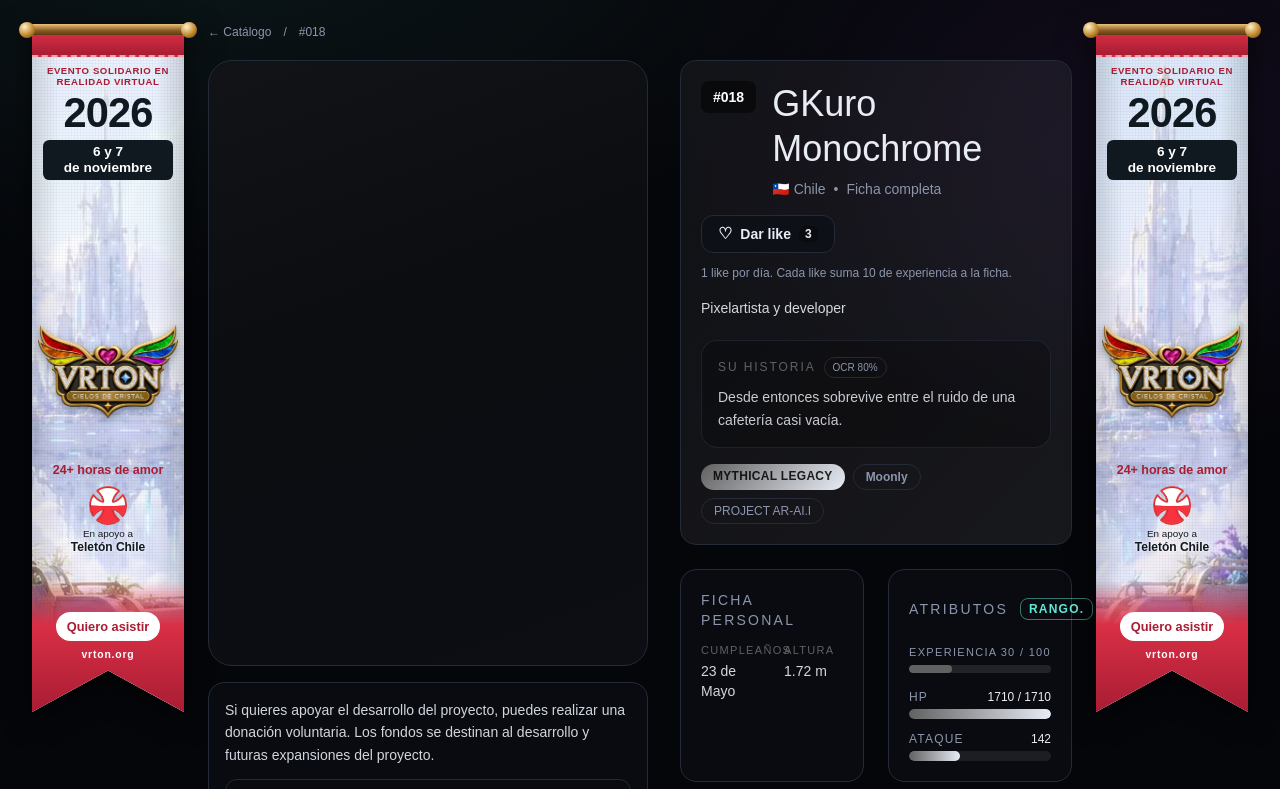
Test: DetailPage › la ficha trae el like y el botón de PayPal, y los likes mueven nivel y experiencia
The image size is (1280, 789).
Expected: the text with test id "like-count" reads "3", [805,227,812,241]
Expected: the text "NIVEL 1" is shown, [1101,590,1154,628]
Click the button with test id "like-button".
click(768, 234)  # box [701,215,835,253]
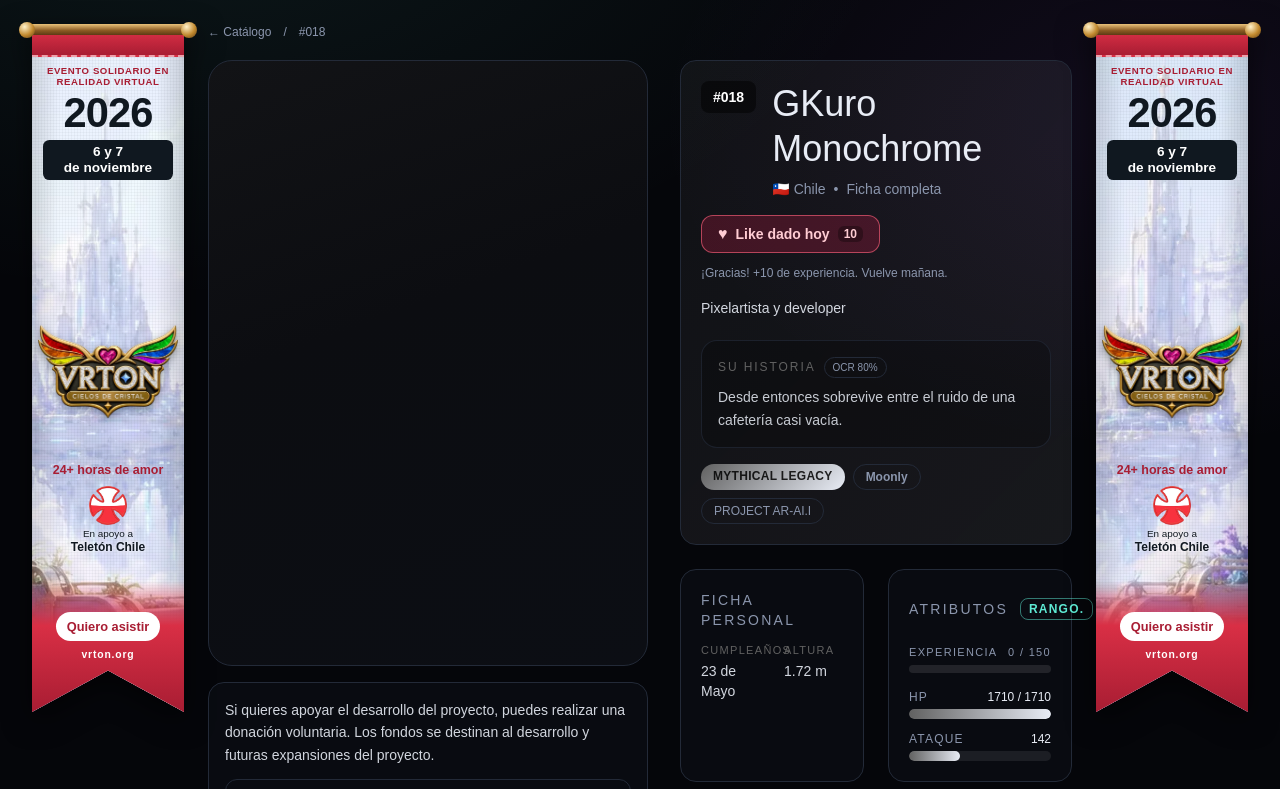
Expected: the text "NIVEL 2" is shown, [1101,590,1154,628]
Now the text with test id "like-count" reads "10", box [844,227,857,241]
